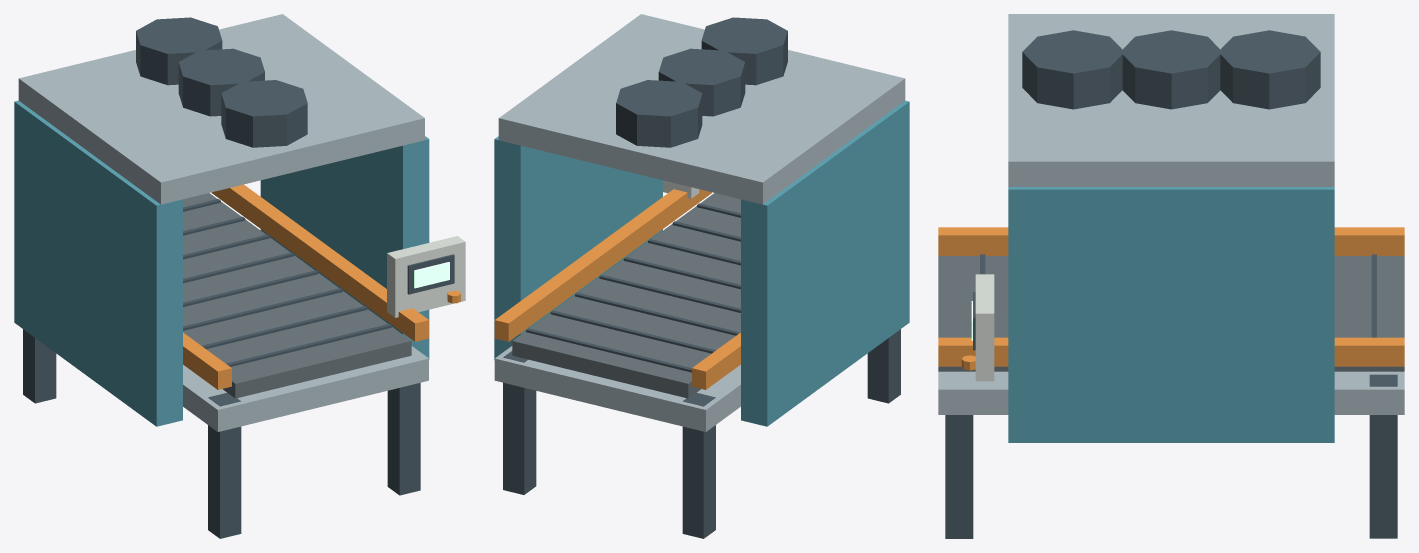
File: drying-tunnel-conveyor.glb
The picture shows the model from 3 angles, left to right: view 1: azimuth 30°, elevation 25°; view 2: azimuth 150°, elevation 25°; view 3: azimuth 270°, elevation 25°; orthographic projection. The views are drawn at different scales.
Visible parts, largest first — view 1: blue, steel, dark, rubber, orange, cream, light; view 2: blue, steel, dark, rubber, orange; view 3: blue, steel, dark, rubber, orange, cream.
Part boxes in pixels (box(x1,y1,x2,y2)): blue: box(14, 100, 429, 426); steel: box(18, 14, 428, 431); dark: box(23, 17, 454, 538); rubber: box(183, 193, 411, 398); orange: box(183, 184, 460, 389); cream: box(387, 236, 465, 317); light: box(414, 262, 449, 288); blue: box(494, 100, 909, 426); steel: box(494, 14, 905, 431); dark: box(503, 17, 900, 538); rubber: box(512, 193, 740, 398); orange: box(494, 189, 740, 389); blue: box(1008, 187, 1334, 442); steel: box(938, 14, 1404, 414); dark: box(945, 30, 1397, 538); rubber: box(938, 256, 1404, 371); orange: box(938, 227, 1404, 370); cream: box(975, 274, 994, 381).
Size of the model in its own units: 1.67 by 2.04 by 2.
